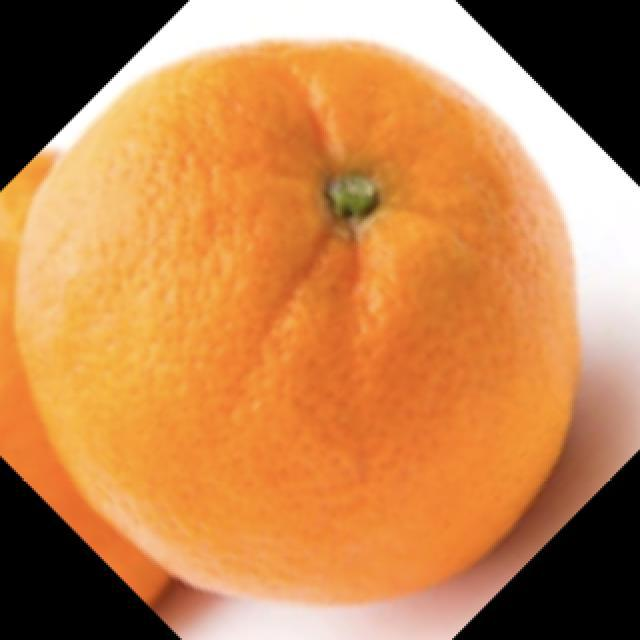Orange: (12, 36, 583, 605), (0, 148, 172, 607)
